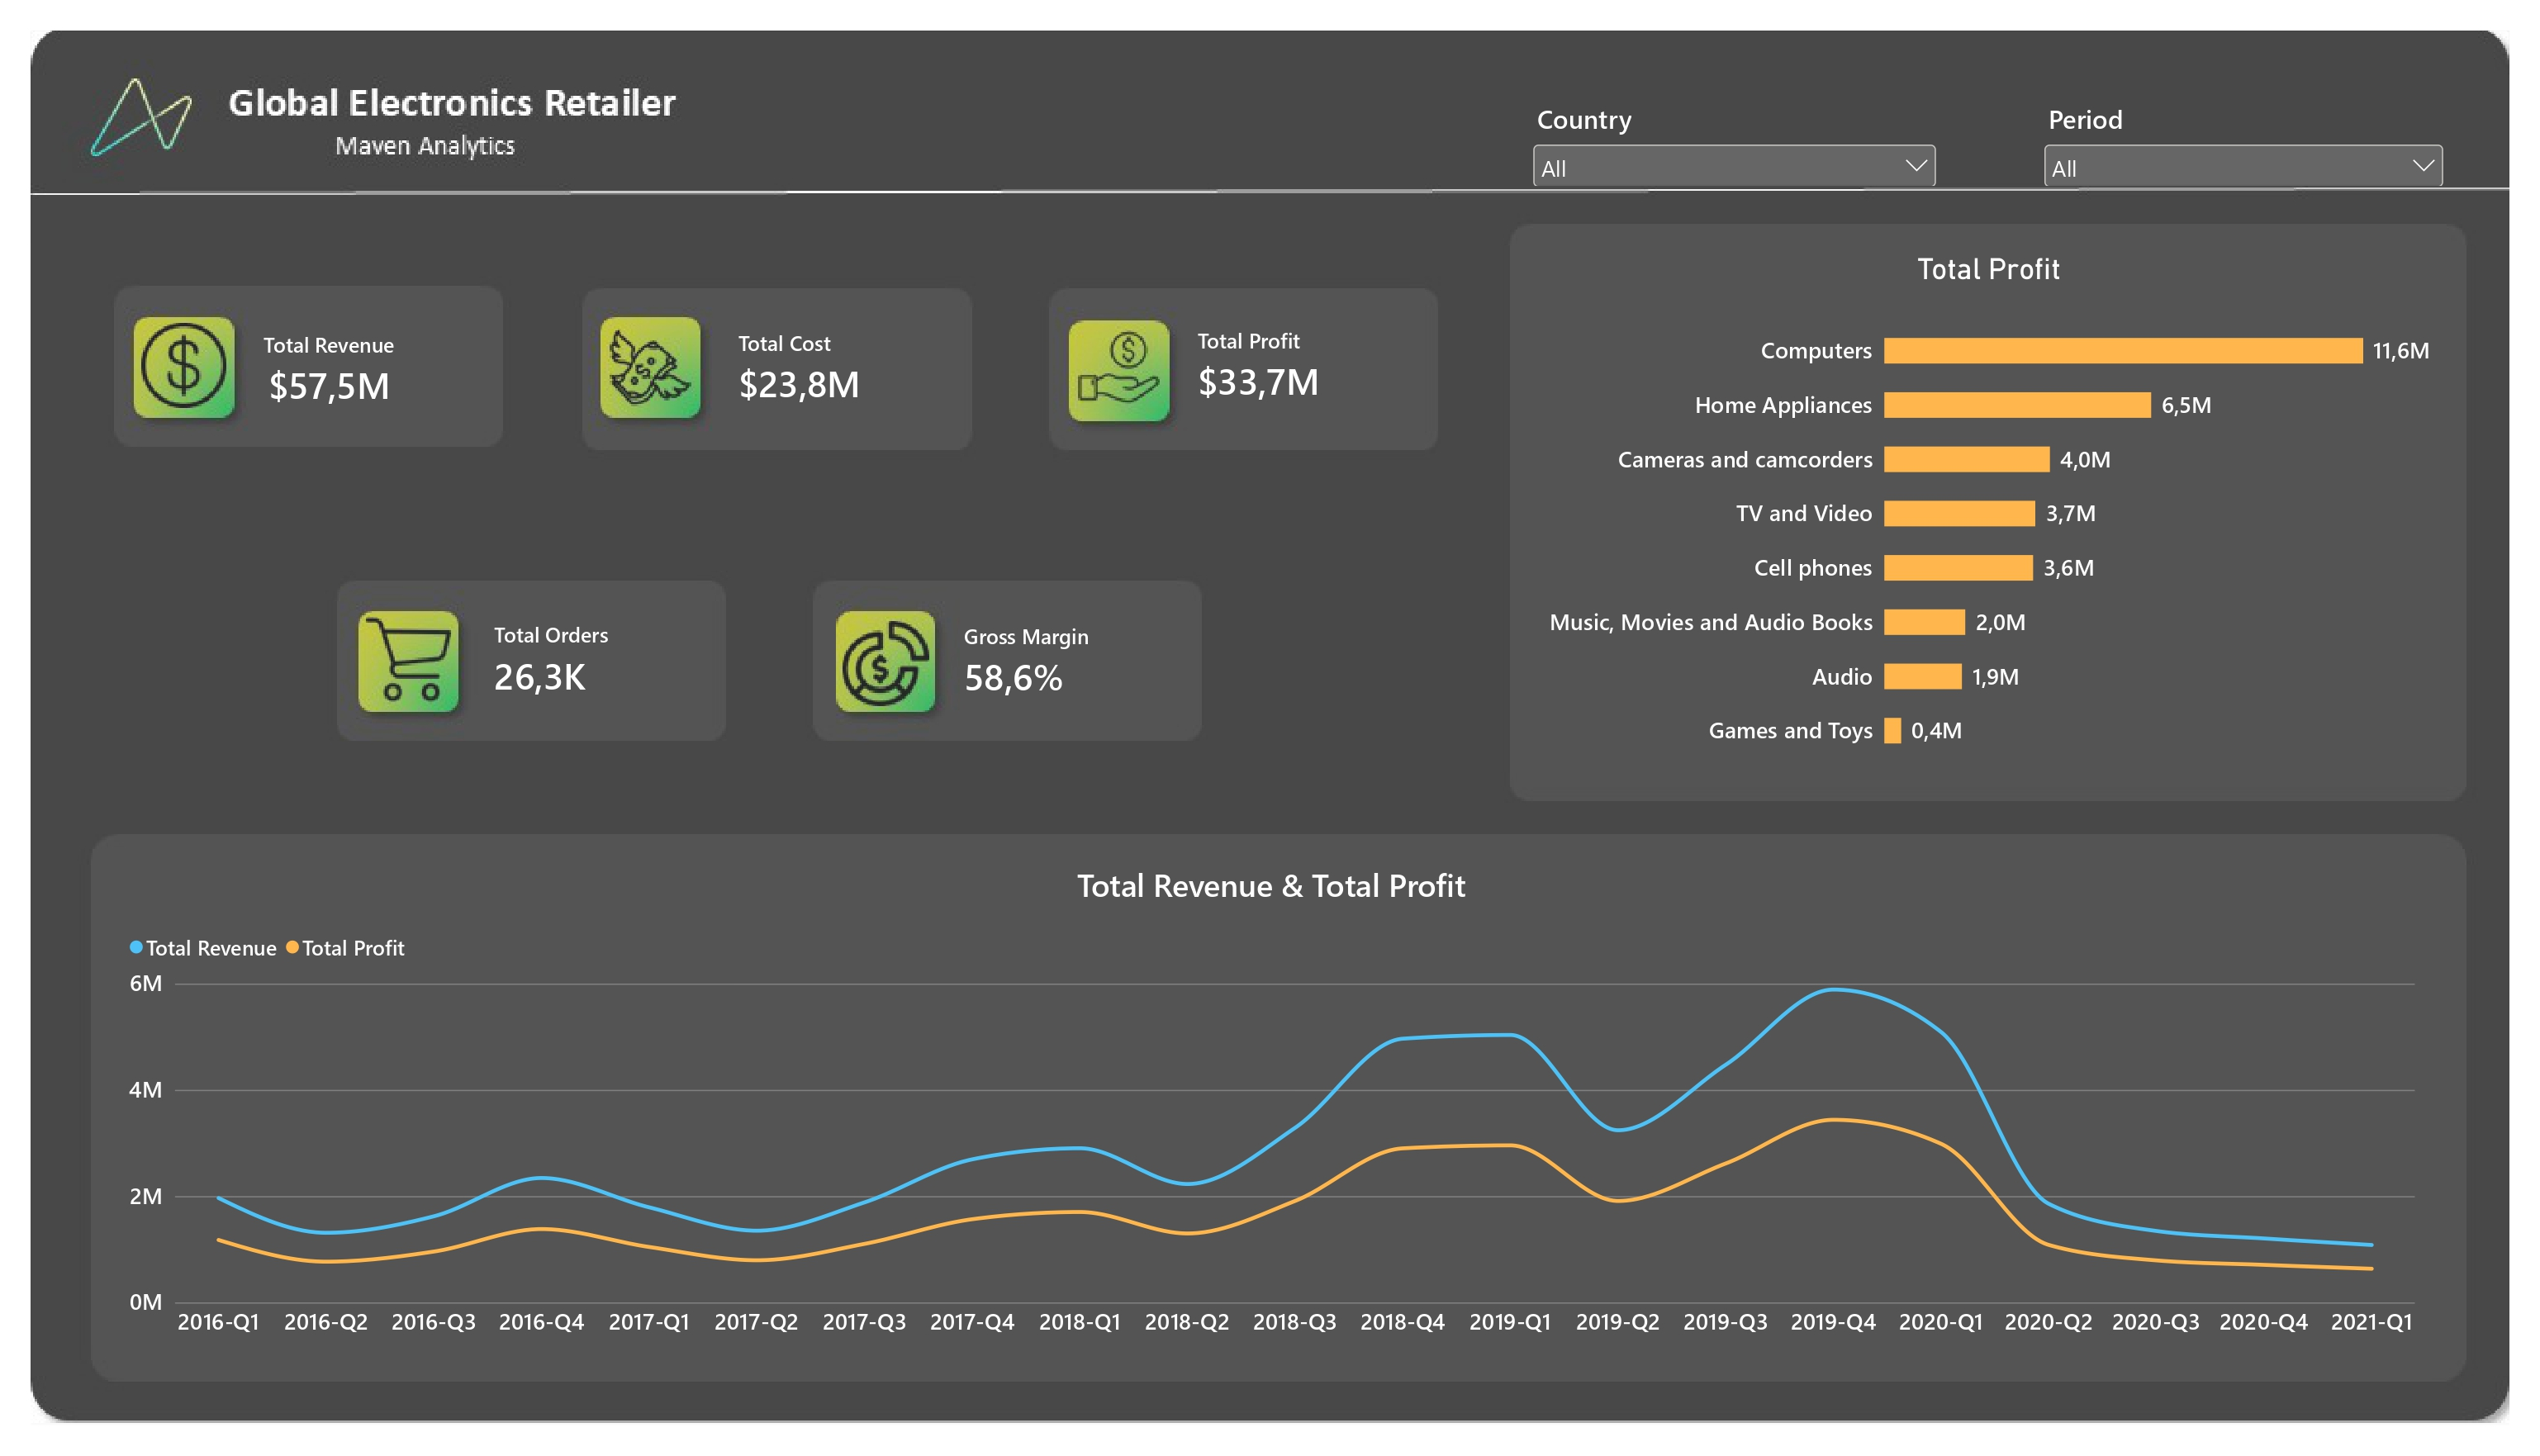

The dashboard page shown, as its layout file describes it:
{"tool":"powerbi","page":{"name":"Page 1","canvas":[1920,1080],"ordinal":0},"visuals":[{"type":"cardVisual","fields":{"Data":["_Measures.Total Cost"]},"box":[531.8,121.6,280,280],"z":0},{"type":"cardVisual","fields":{"Data":["_Measures.Total Orders"]},"box":[342.6,348.1,280,280],"z":1000},{"type":"cardVisual","fields":{"Data":["_Measures.Total Profit"]},"box":[888.2,120.2,280,280],"z":2000},{"type":"cardVisual","fields":{"Data":["_Measures.Total Revenue"]},"box":[91.2,122.9,280.1,280.1],"z":3000},{"type":"cardVisual","fields":{"Data":["_Measures.Gross Margin %"]},"box":[707.2,349.5,280,280],"z":4000},{"type":"lineChart","title":"Total Revenue & Total Profit","fields":{"Category":["d_date.AnoTrimestre"],"Y":["_Measures.Total Revenue","_Measures.Total Profit"]},"box":[58.6,631.3,1804.2,401.3],"z":5000},{"type":"clusteredBarChart","title":"Total Profit","fields":{"Category":["vw_products.category"],"Y":["_Measures.Total Profit"]},"box":[1159.1,157.4,716.1,429.1],"z":6000},{"type":"slicer","fields":{"Values":["customers.country"]},"box":[1158.9,53.9,321.8,66.3],"z":7000},{"type":"slicer","fields":{"Values":["d_date.MesAno"]},"box":[1555.3,53.9,319.1,66.3],"z":8000}]}

Visuals, with their boxes on the page's 1920x1080 design canvas (x1, y1, x2, y2). These are canvas units, not pixel positions in the 2540x1456 screenshot, which may show the page scaled, cropped or inside an application window:
cardVisual - _Measures.Total Cost: x1=532, y1=122, x2=812, y2=402
cardVisual - _Measures.Total Orders: x1=343, y1=348, x2=623, y2=628
cardVisual - _Measures.Total Profit: x1=888, y1=120, x2=1168, y2=400
cardVisual - _Measures.Total Revenue: x1=91, y1=123, x2=371, y2=403
cardVisual - _Measures.Gross Margin %: x1=707, y1=350, x2=987, y2=630
"Total Revenue & Total Profit" lineChart: x1=59, y1=631, x2=1863, y2=1033
"Total Profit" clusteredBarChart: x1=1159, y1=157, x2=1875, y2=586
slicer - customers.country: x1=1159, y1=54, x2=1481, y2=120
slicer - d_date.MesAno: x1=1555, y1=54, x2=1874, y2=120
